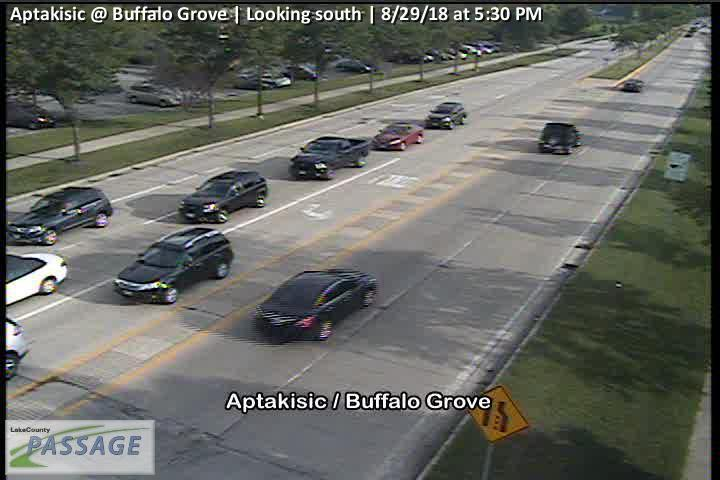SUV: (113, 227, 234, 305)
Sedan: (254, 268, 377, 342), (8, 186, 112, 246), (179, 170, 268, 224), (5, 252, 69, 307), (7, 99, 57, 131), (127, 81, 182, 108), (373, 123, 424, 152), (537, 123, 583, 153), (426, 102, 466, 128), (233, 71, 290, 88), (337, 58, 375, 73), (623, 77, 644, 90)
Truck: (291, 134, 368, 180)
